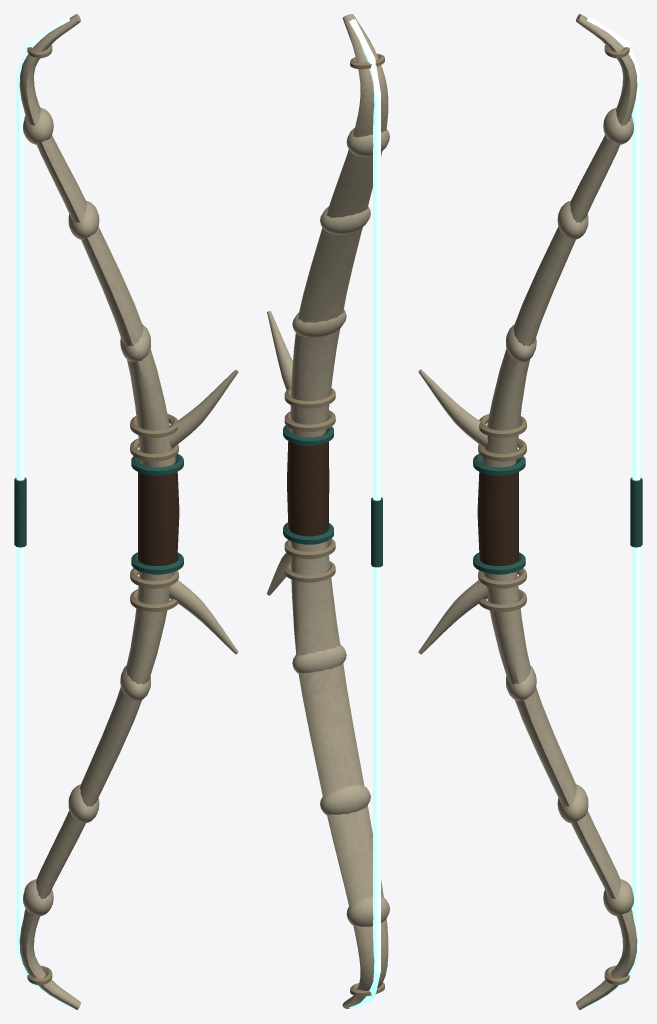
Rendered from bone_bow.glb.
3 views of the same model, side by side, from view 1: azimuth 90°, elevation 25°; view 2: azimuth 210°, elevation 25°; view 3: azimuth 270°, elevation 25° (orthographic).
Parts seen in each view (by area): view 1: bone_bow; view 2: bone_bow; view 3: bone_bow.
Part boxes in pixels (left/top/right/bottom): bone_bow: left=14, top=14, right=238, bottom=1009; bone_bow: left=267, top=14, right=389, bottom=1009; bone_bow: left=418, top=14, right=642, bottom=1009.
Bounding box in the file's own units: 0.116 × 2.11 × 0.4322.
5 materials, 4 textured.
